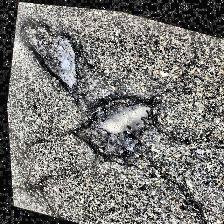pothole: (62, 74, 158, 168), (6, 16, 88, 94)
